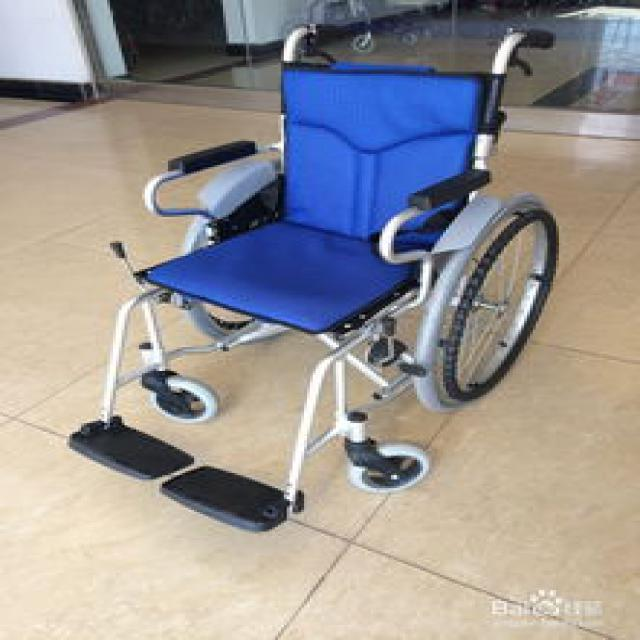wheelchairs: (82, 25, 555, 527)
